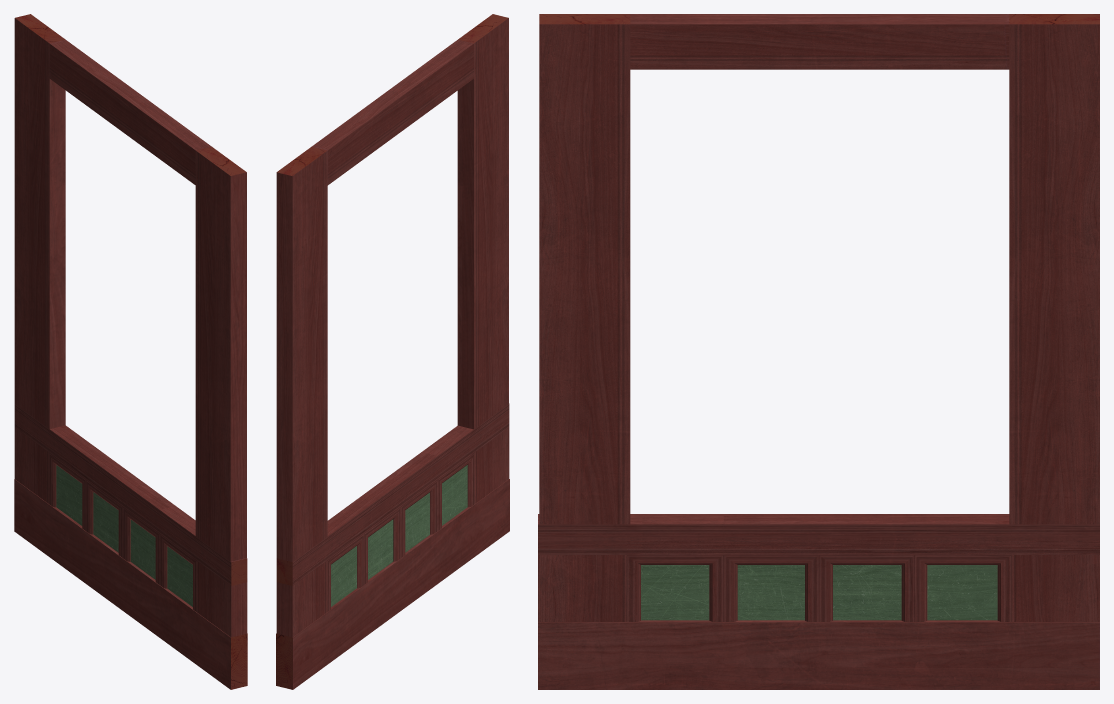
Rendered from SM_WindowTrim02A.fbx.
3 renders of one model, left to right at view 1: azimuth 30°, elevation 25°; view 2: azimuth 150°, elevation 25°; view 3: azimuth 270°, elevation 25°, orthographic. The views are drawn at different scales.
Parts seen in each view (by area): view 1: SM_WindowTrim02A; view 2: SM_WindowTrim02A; view 3: SM_WindowTrim02A.
Boxes of the visible parts, left/top/right/bottom form: SM_WindowTrim02A: left=14, top=14, right=247, bottom=689; SM_WindowTrim02A: left=276, top=14, right=509, bottom=689; SM_WindowTrim02A: left=538, top=14, right=1099, bottom=689.
Size of the model in its own units: 12.61 by 280 by 366.
